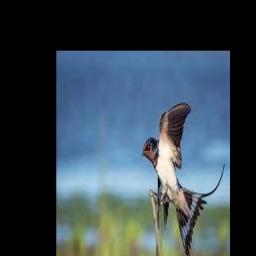Swallow: (143, 103, 225, 256)
